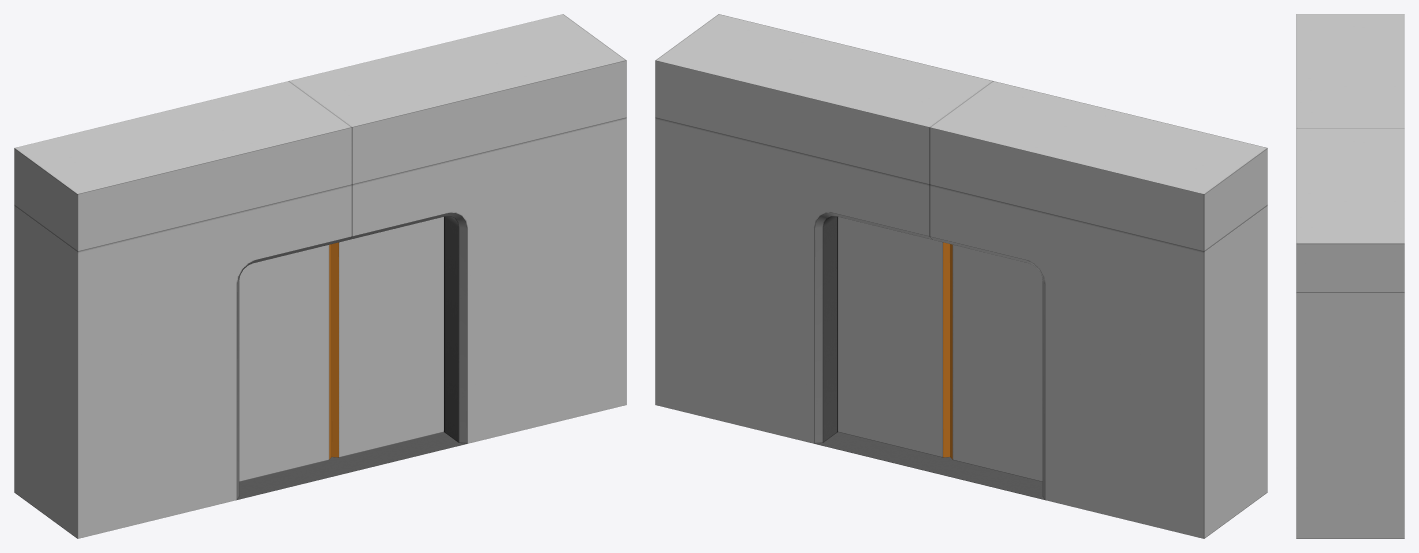
File: Wall_Door_02.FBX
3 views of the same model, side by side, from view 1: azimuth 30°, elevation 25°; view 2: azimuth 150°, elevation 25°; view 3: azimuth 270°, elevation 25° (orthographic). The views are drawn at different scales.
Parts seen in each view (by area): view 1: Wall_Door_02, _Door_Left, _Door_Right; view 2: Wall_Door_02, _Door_Left, _Door_Right; view 3: Wall_Door_02.
Part boxes in pixels (<box>): Wall_Door_02: <box>14,14,626,538</box>; _Door_Left: <box>331,217,443,457</box>; _Door_Right: <box>239,244,331,481</box>; Wall_Door_02: <box>655,14,1267,538</box>; _Door_Left: <box>838,217,950,457</box>; _Door_Right: <box>950,244,1042,481</box>; Wall_Door_02: <box>1296,14,1404,538</box>.
Size of the model in its own units: 10 by 6 by 2.
Materials: 1 (1 with a texture image).
